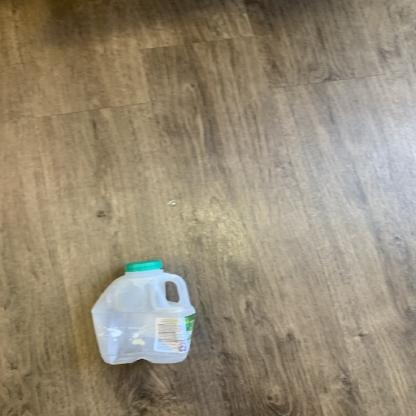trash: (86, 260, 198, 370)
